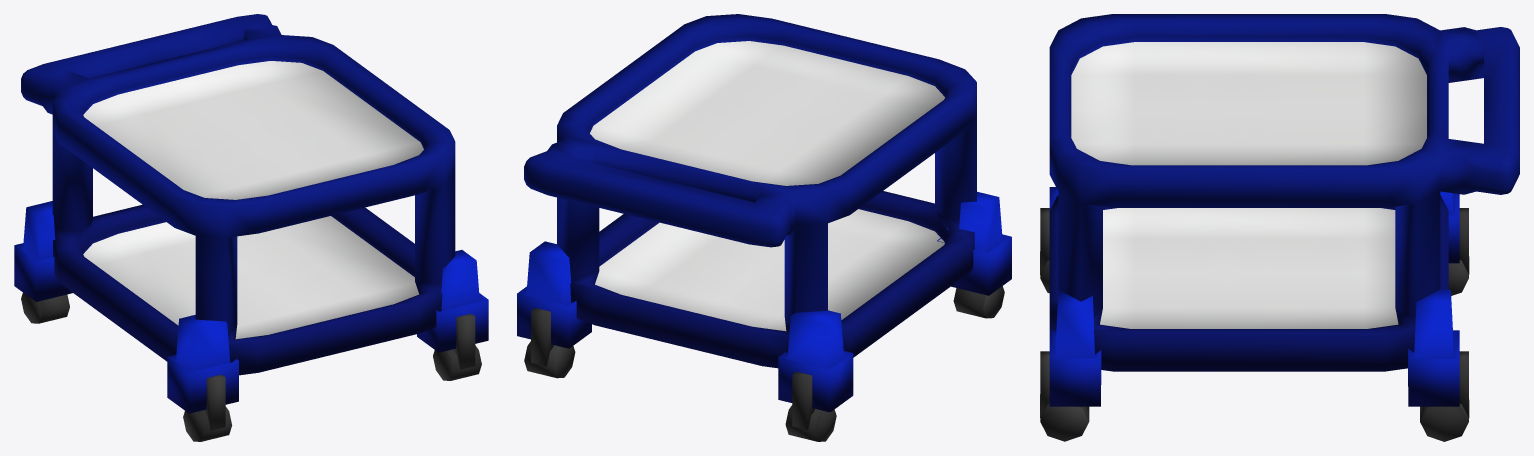
File: MesaInstrumentos.fbx
3 renders of one model, left to right at view 1: azimuth 30°, elevation 25°; view 2: azimuth 150°, elevation 25°; view 3: azimuth 270°, elevation 25°, orthographic. The views are drawn at different scales.
Visible parts, largest first — view 1: MesaInstrumentos; view 2: MesaInstrumentos; view 3: MesaInstrumentos.
Boxes of the visible parts, bbox=[...] form: MesaInstrumentos: bbox=[14, 14, 488, 441]; MesaInstrumentos: bbox=[517, 14, 1011, 441]; MesaInstrumentos: bbox=[1040, 14, 1519, 441].
Bounding box in the file's own units: 53.88 × 39.26 × 63.41.
Materials: 1 (1 with a texture image).
